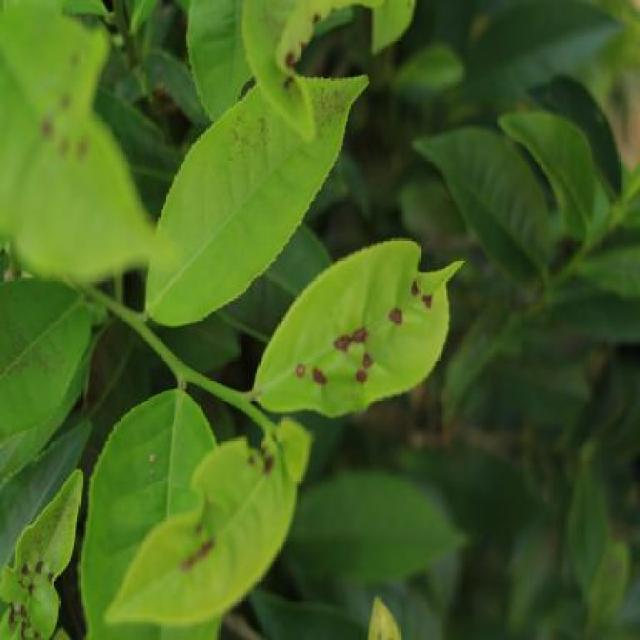Tea Mosquito bug infested leaf: (245, 240, 480, 411)
